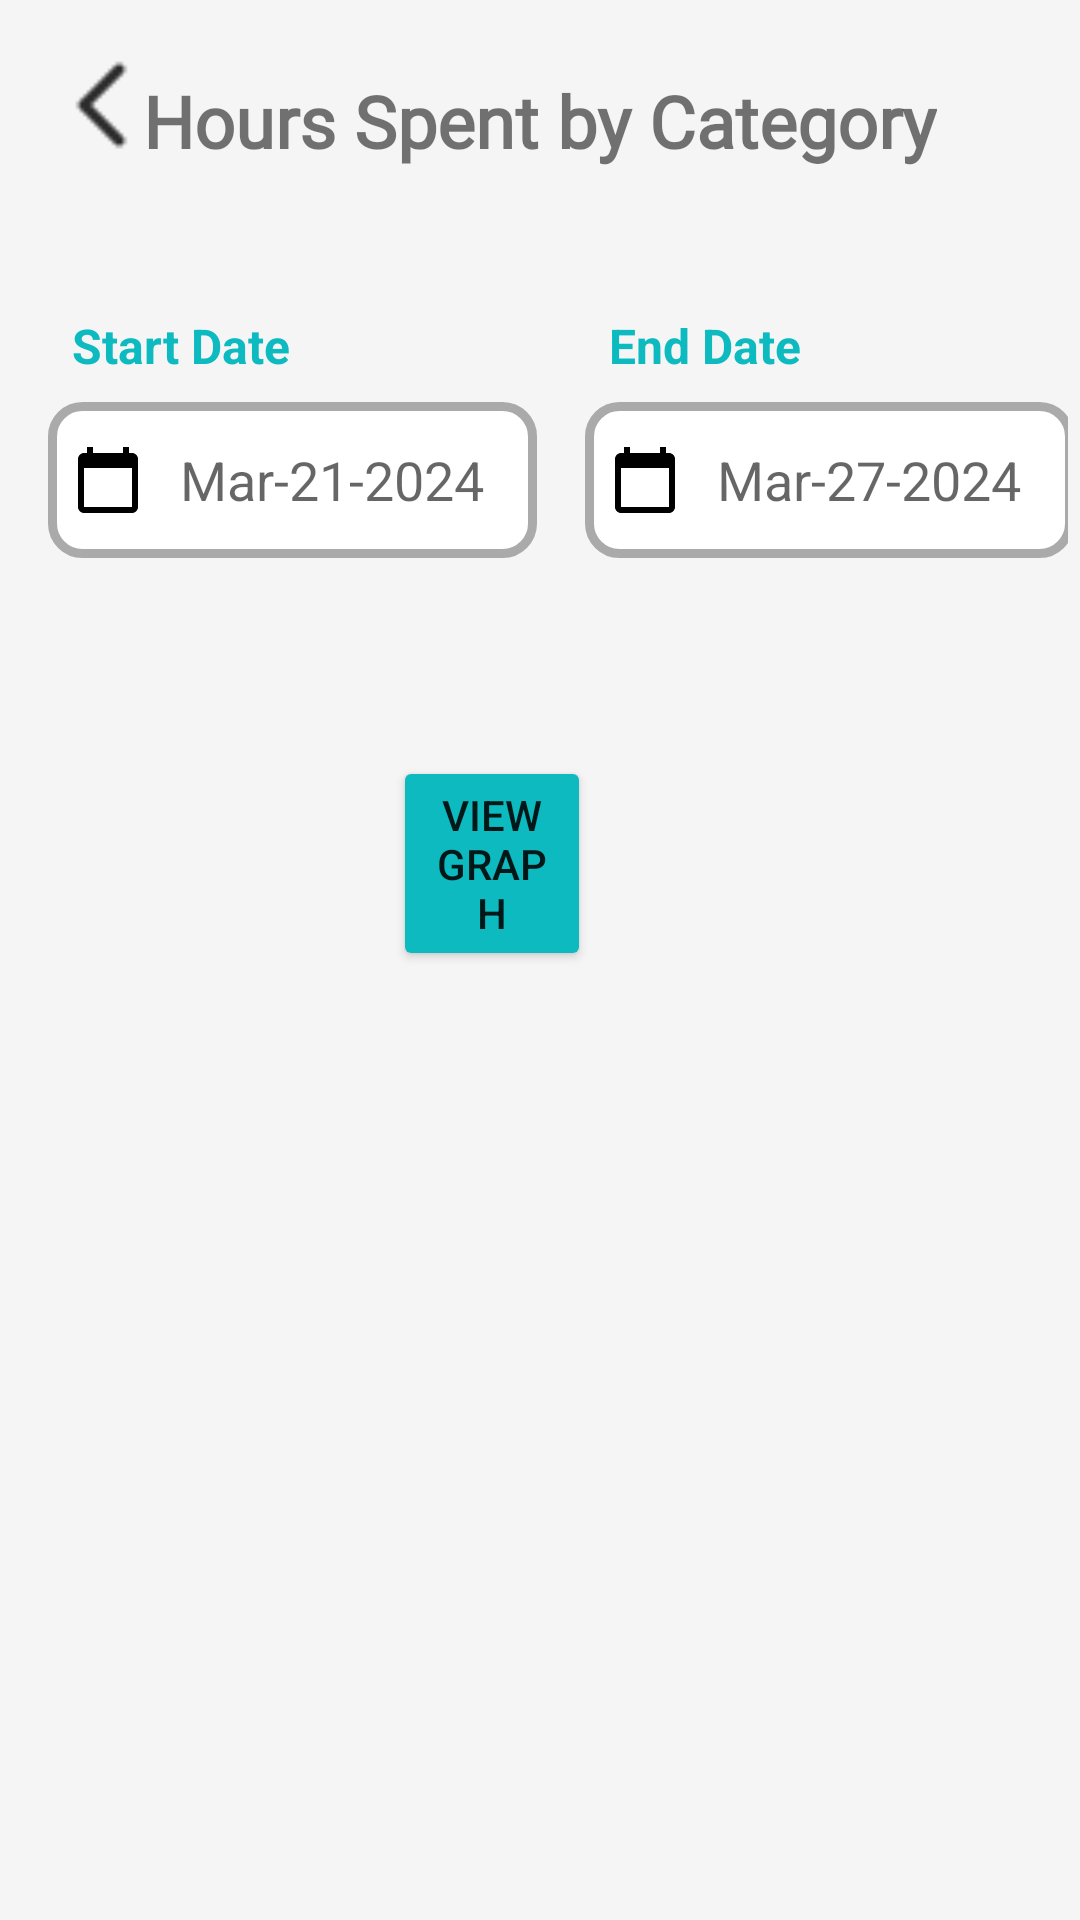

Screen size 1080x1920. Icon name, then its box in pixels as (x1, y1, x2, y2):
back: (76, 62, 127, 148)
